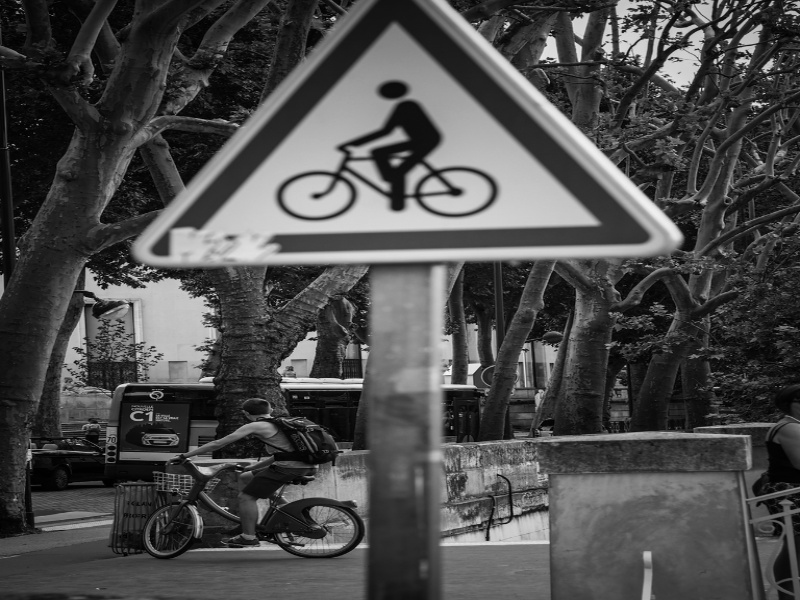cycle_route_ahead: (140, 29, 671, 292)
